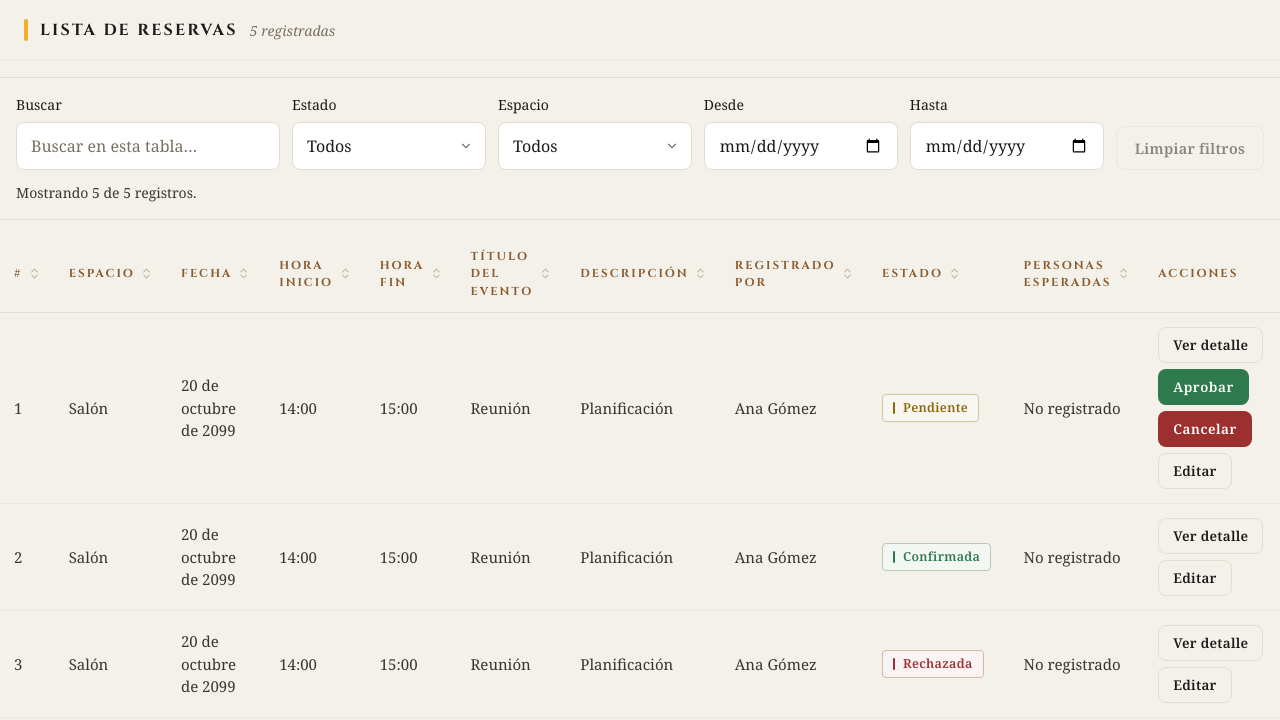
Test: integración de reservas, estados y edición › muestra el error del servidor al cambiar estado
Click the button "Aprobar" at x=1204, y=387, box [1158,369,1249,405]
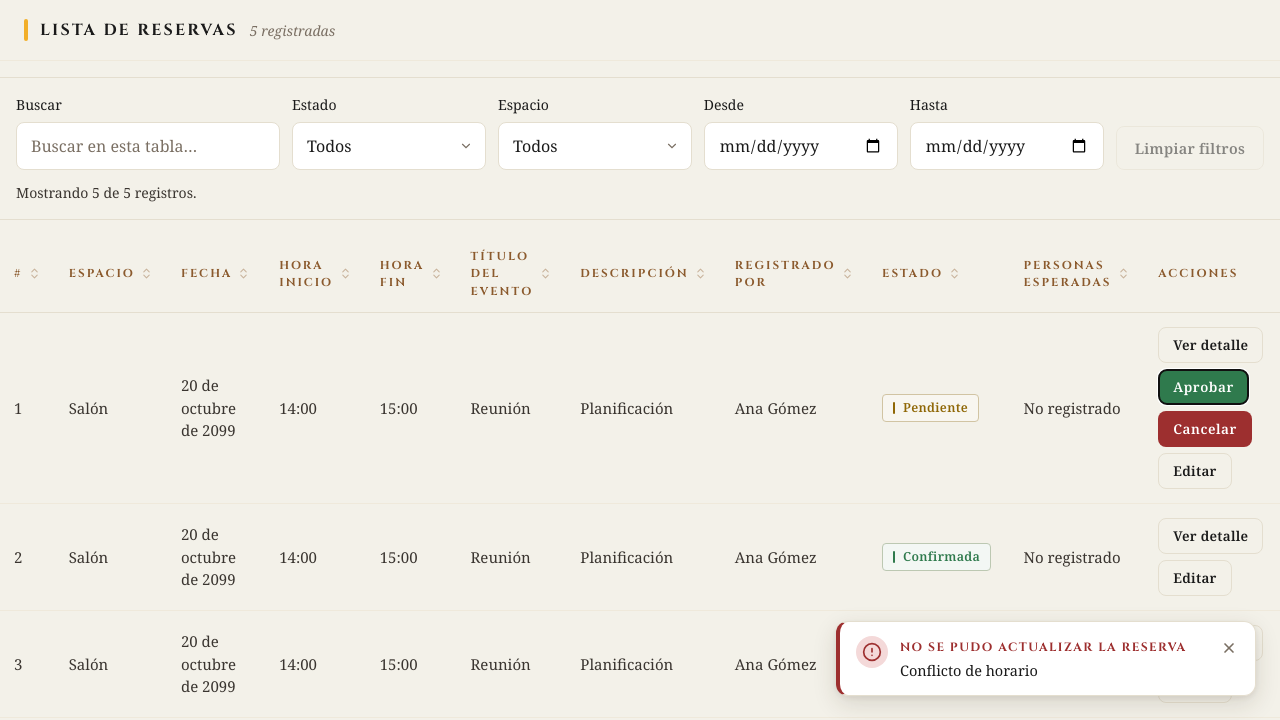
Result: the message shows "Conflicto de horario" at [900,660,1038,680]
